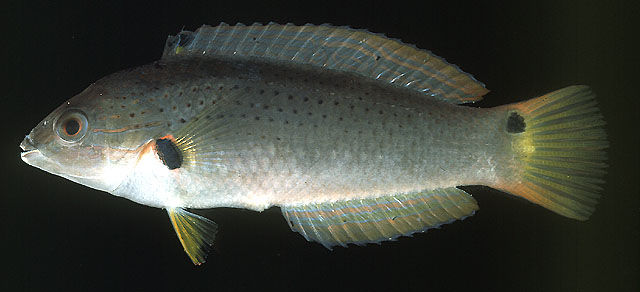fish: (20, 20, 611, 267)
